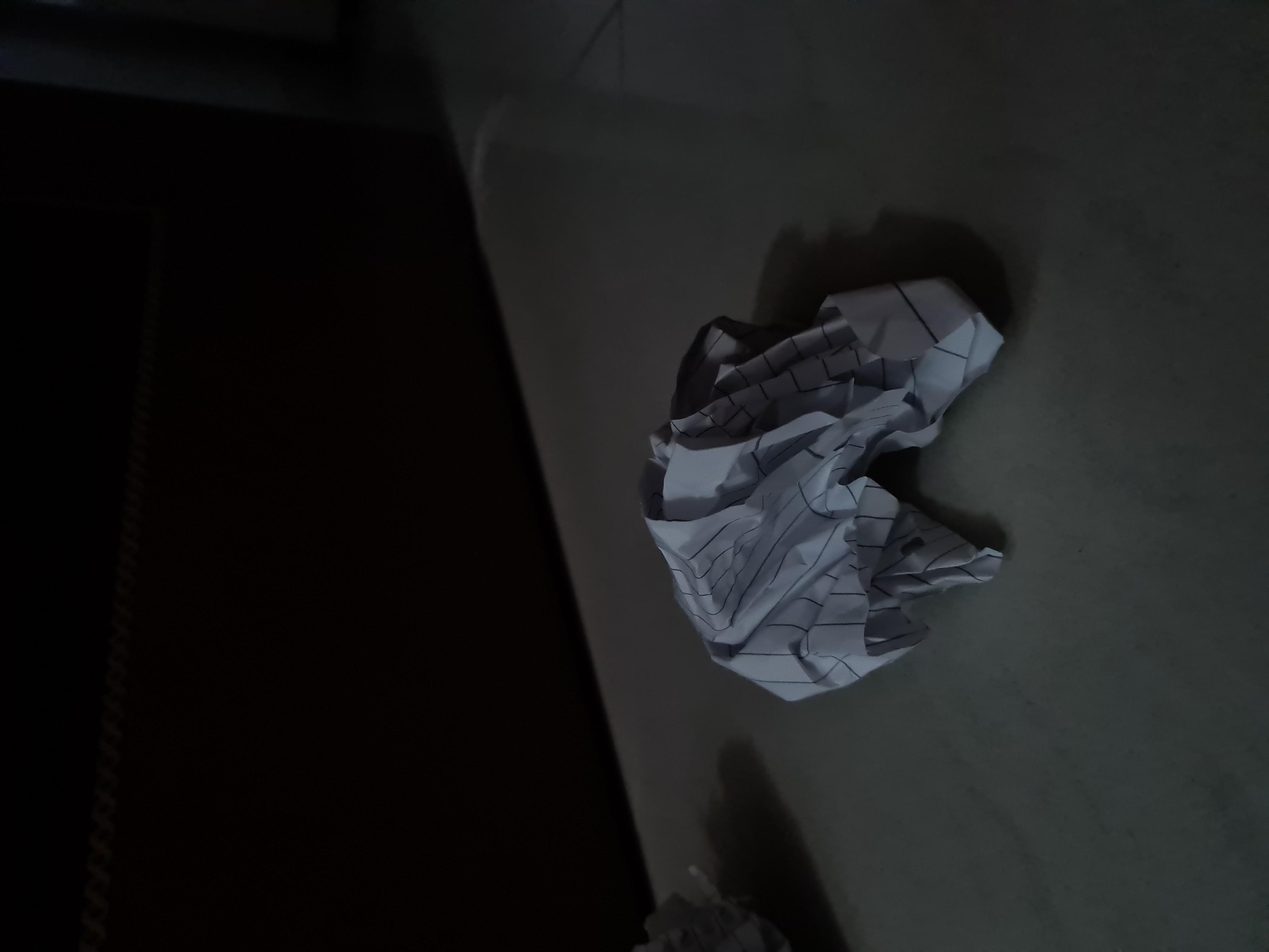paper: (337, 492, 882, 742)
